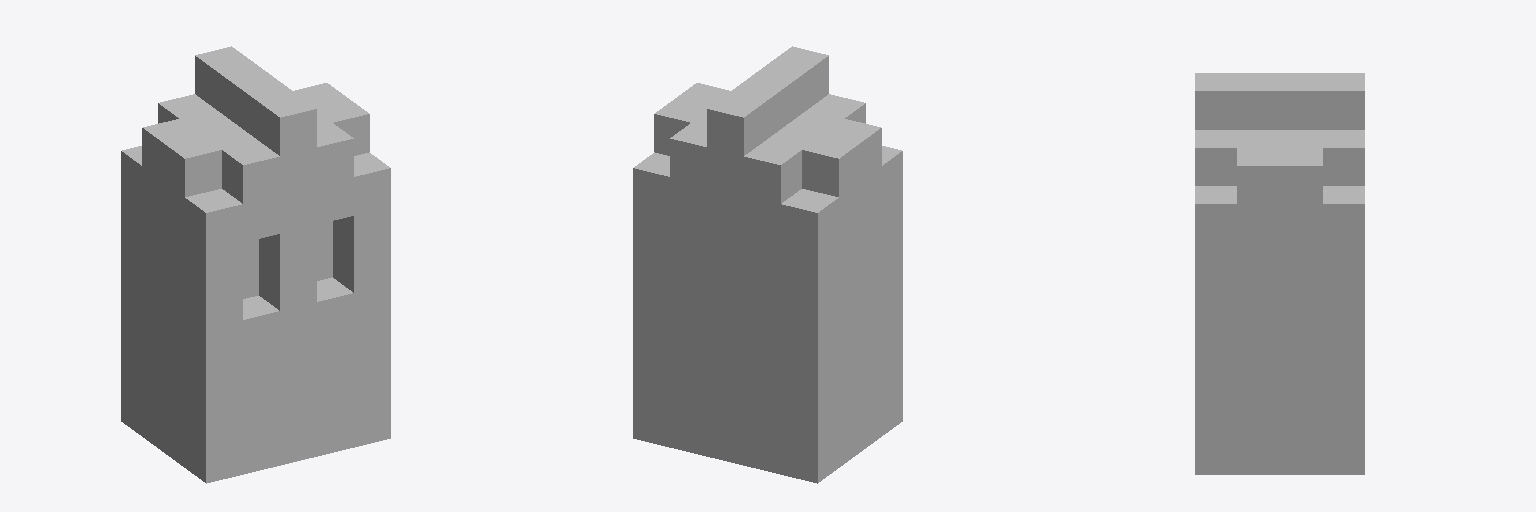
Rendered from Beer Knight-3.obj.
The picture shows the model from 3 angles: view 1: azimuth 30°, elevation 25°; view 2: azimuth 150°, elevation 25°; view 3: azimuth 270°, elevation 25°; orthographic projection.
Visible parts, largest first — view 1: object 1; view 2: object 1; view 3: object 1.
Boxes of the visible parts, <box> form: object 1: <box>121,46,390,483</box>; object 1: <box>633,46,902,483</box>; object 1: <box>1195,73,1364,474</box>.
Bounding box in the file's own units: 0.5 × 0.9 × 0.4.